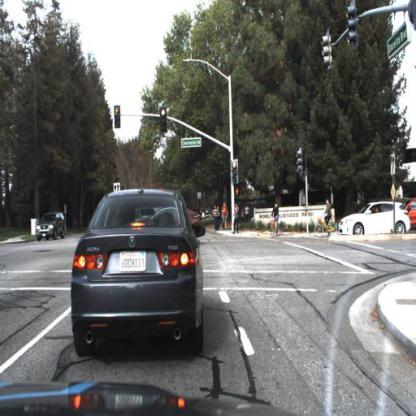biker: (268, 202, 283, 240)
car: (71, 186, 206, 357), (335, 202, 411, 236), (35, 211, 68, 240), (400, 199, 416, 236)
pedestrian: (230, 200, 240, 237), (220, 203, 230, 232), (222, 203, 228, 229), (214, 204, 219, 231)
trafficLight-Red: (232, 158, 239, 183), (161, 108, 167, 134)
trafficLight-RedLeft: (114, 104, 122, 127)
